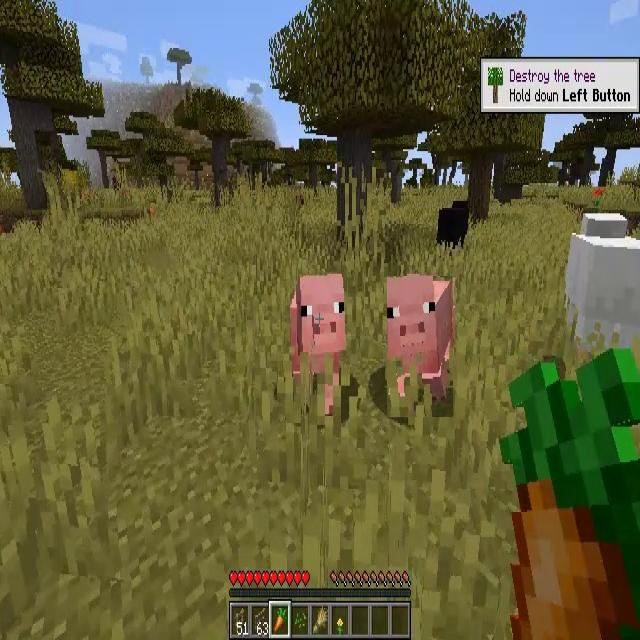pig: (387, 276, 453, 417), (290, 279, 345, 405)
sheep: (566, 212, 640, 360), (437, 201, 468, 249)
